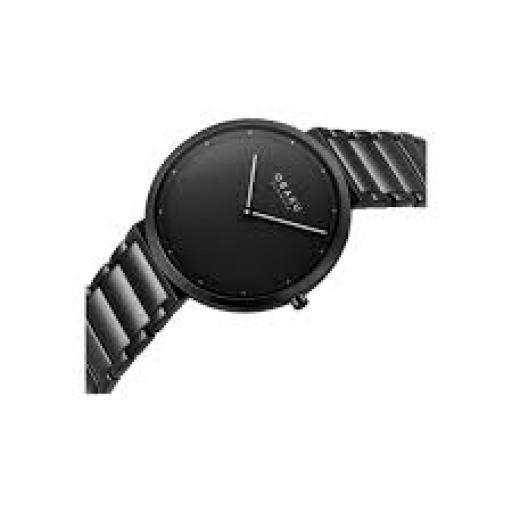KolSaati: (52, 62, 496, 438)
